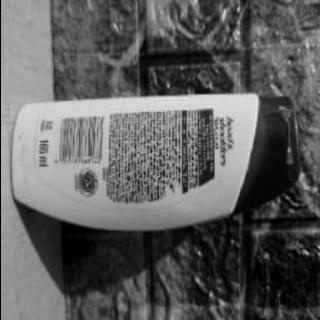objects: (12, 89, 298, 233)
